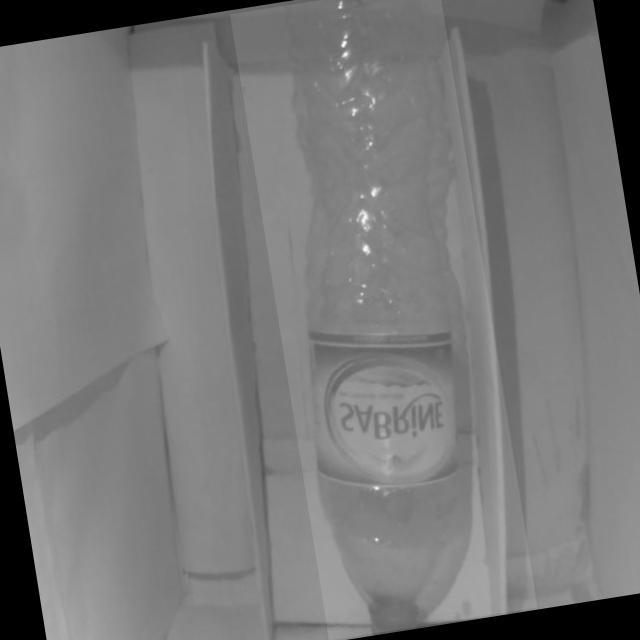good: (230, 0, 538, 640)
